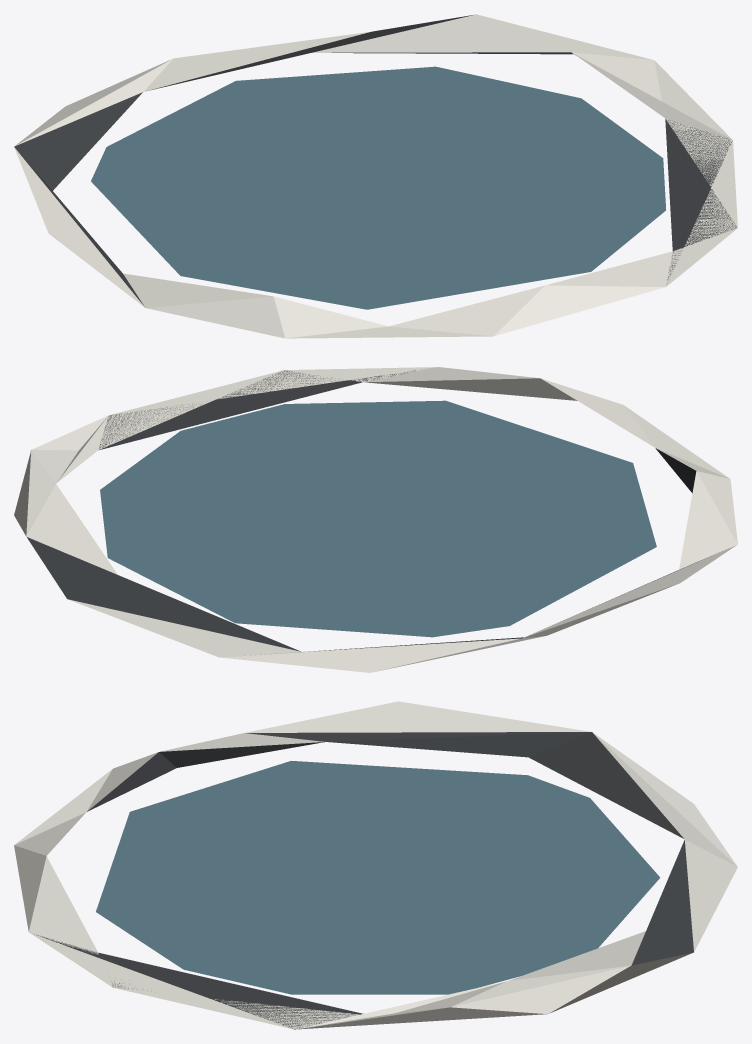
File: waterdraagster-bellamyplein.lod2.glb
3 views of the same model, one above another, from view 1: azimuth 30°, elevation 25°; view 2: azimuth 150°, elevation 25°; view 3: azimuth 270°, elevation 25° (orthographic).
Parts seen in each view (by area): view 1: lod2; view 2: lod2; view 3: lod2.
Part boxes in pixels (x1,y1,x2,y2): lod2: (14,14,737,338); lod2: (14,367,737,672); lod2: (14,701,737,1029).
Size of the model in its own units: 12.36 by 0.4195 by 12.36.
